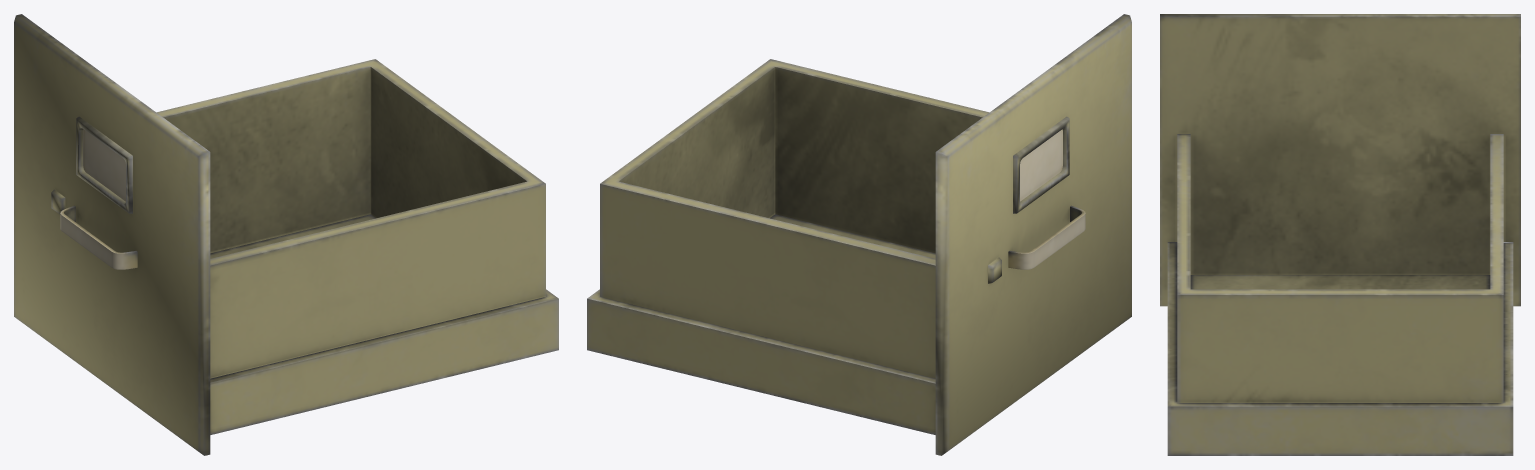
The model's file is SM_Filing_Cabinet_02c.fbx.
The picture shows the model from 3 angles, left to right: view 1: azimuth 30°, elevation 25°; view 2: azimuth 150°, elevation 25°; view 3: azimuth 270°, elevation 25°; orthographic projection. The views are drawn at different scales.
Visible parts, largest first — view 1: SM_Filing_Cabinet_02c_LOD0; view 2: SM_Filing_Cabinet_02c_LOD0; view 3: SM_Filing_Cabinet_02c_LOD0.
Boxes of the visible parts, bbox=[...] form: SM_Filing_Cabinet_02c_LOD0: bbox=[14, 14, 558, 455]; SM_Filing_Cabinet_02c_LOD0: bbox=[587, 14, 1131, 455]; SM_Filing_Cabinet_02c_LOD0: bbox=[1160, 14, 1520, 455].
Bounding box in the file's own units: 48.11 × 41.15 × 36.42.
Materials: 1 (1 with a texture image).
